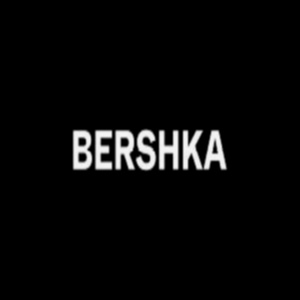bershka: (194, 60, 266, 180)
